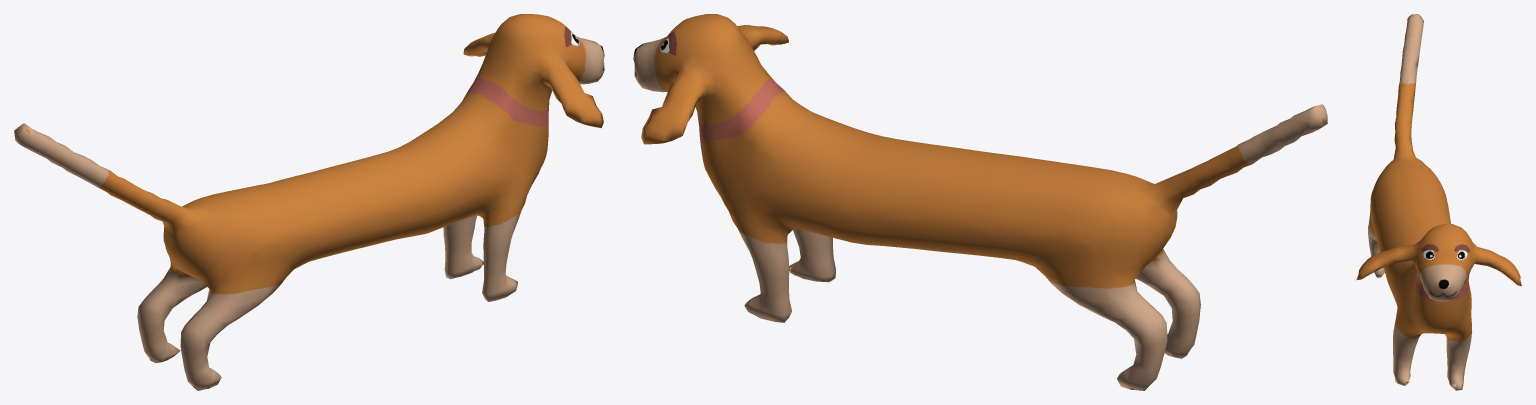
Rendered from dog_aug_2.obj.
3 renders of one model, left to right at view 1: azimuth 30°, elevation 25°; view 2: azimuth 150°, elevation 25°; view 3: azimuth 270°, elevation 25°, orthographic. The views are drawn at different scales.
Bounding box in the file's own units: 108 × 48.62 × 35.21.
Materials: 1 (1 with a texture image).
